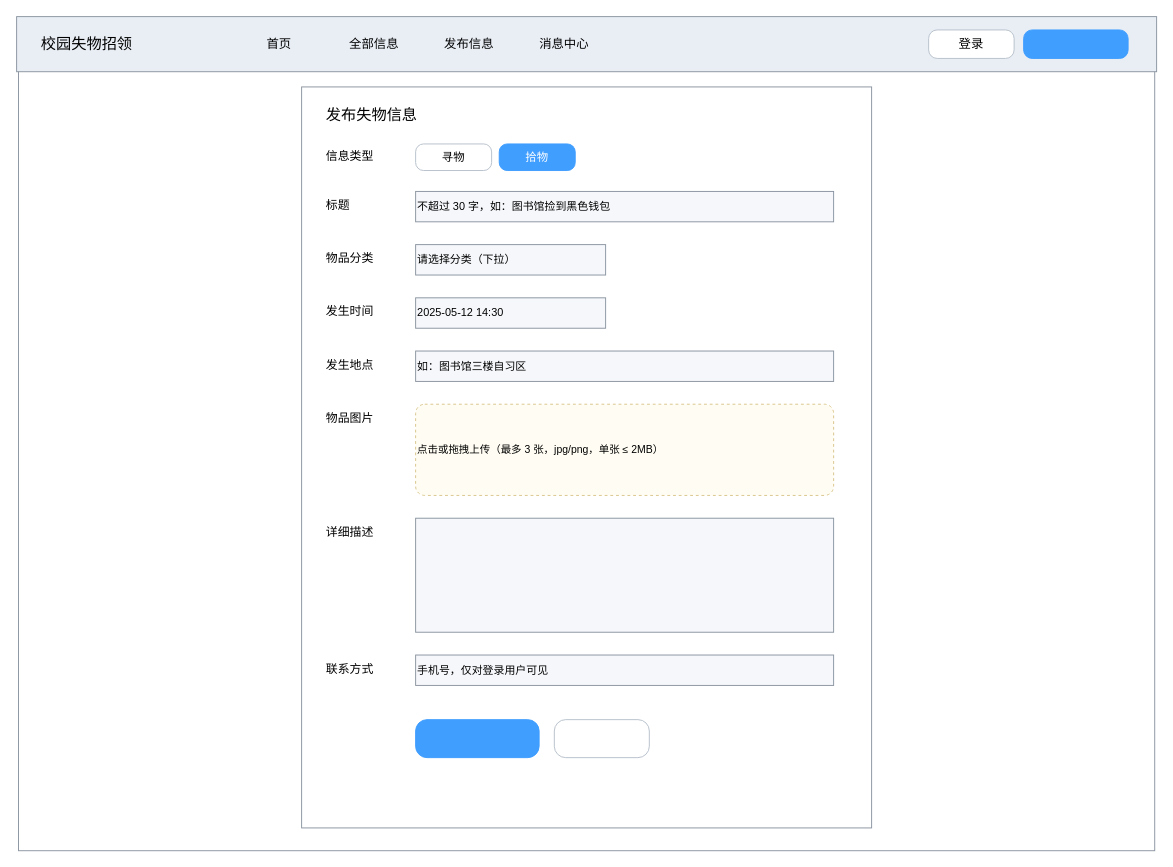
This 1173x867 diagram has some shape labels left out. Here are the shapes that lost their labels. From the top down, the box of each, then its label:
(1023, 29, 1128, 58): 注册
(415, 517, 834, 632): 不超过 500 字，建议描述外观特征、内含物品、拾获或丢失经过…
(415, 719, 539, 758): 提交审核
(553, 719, 649, 758): 取消
